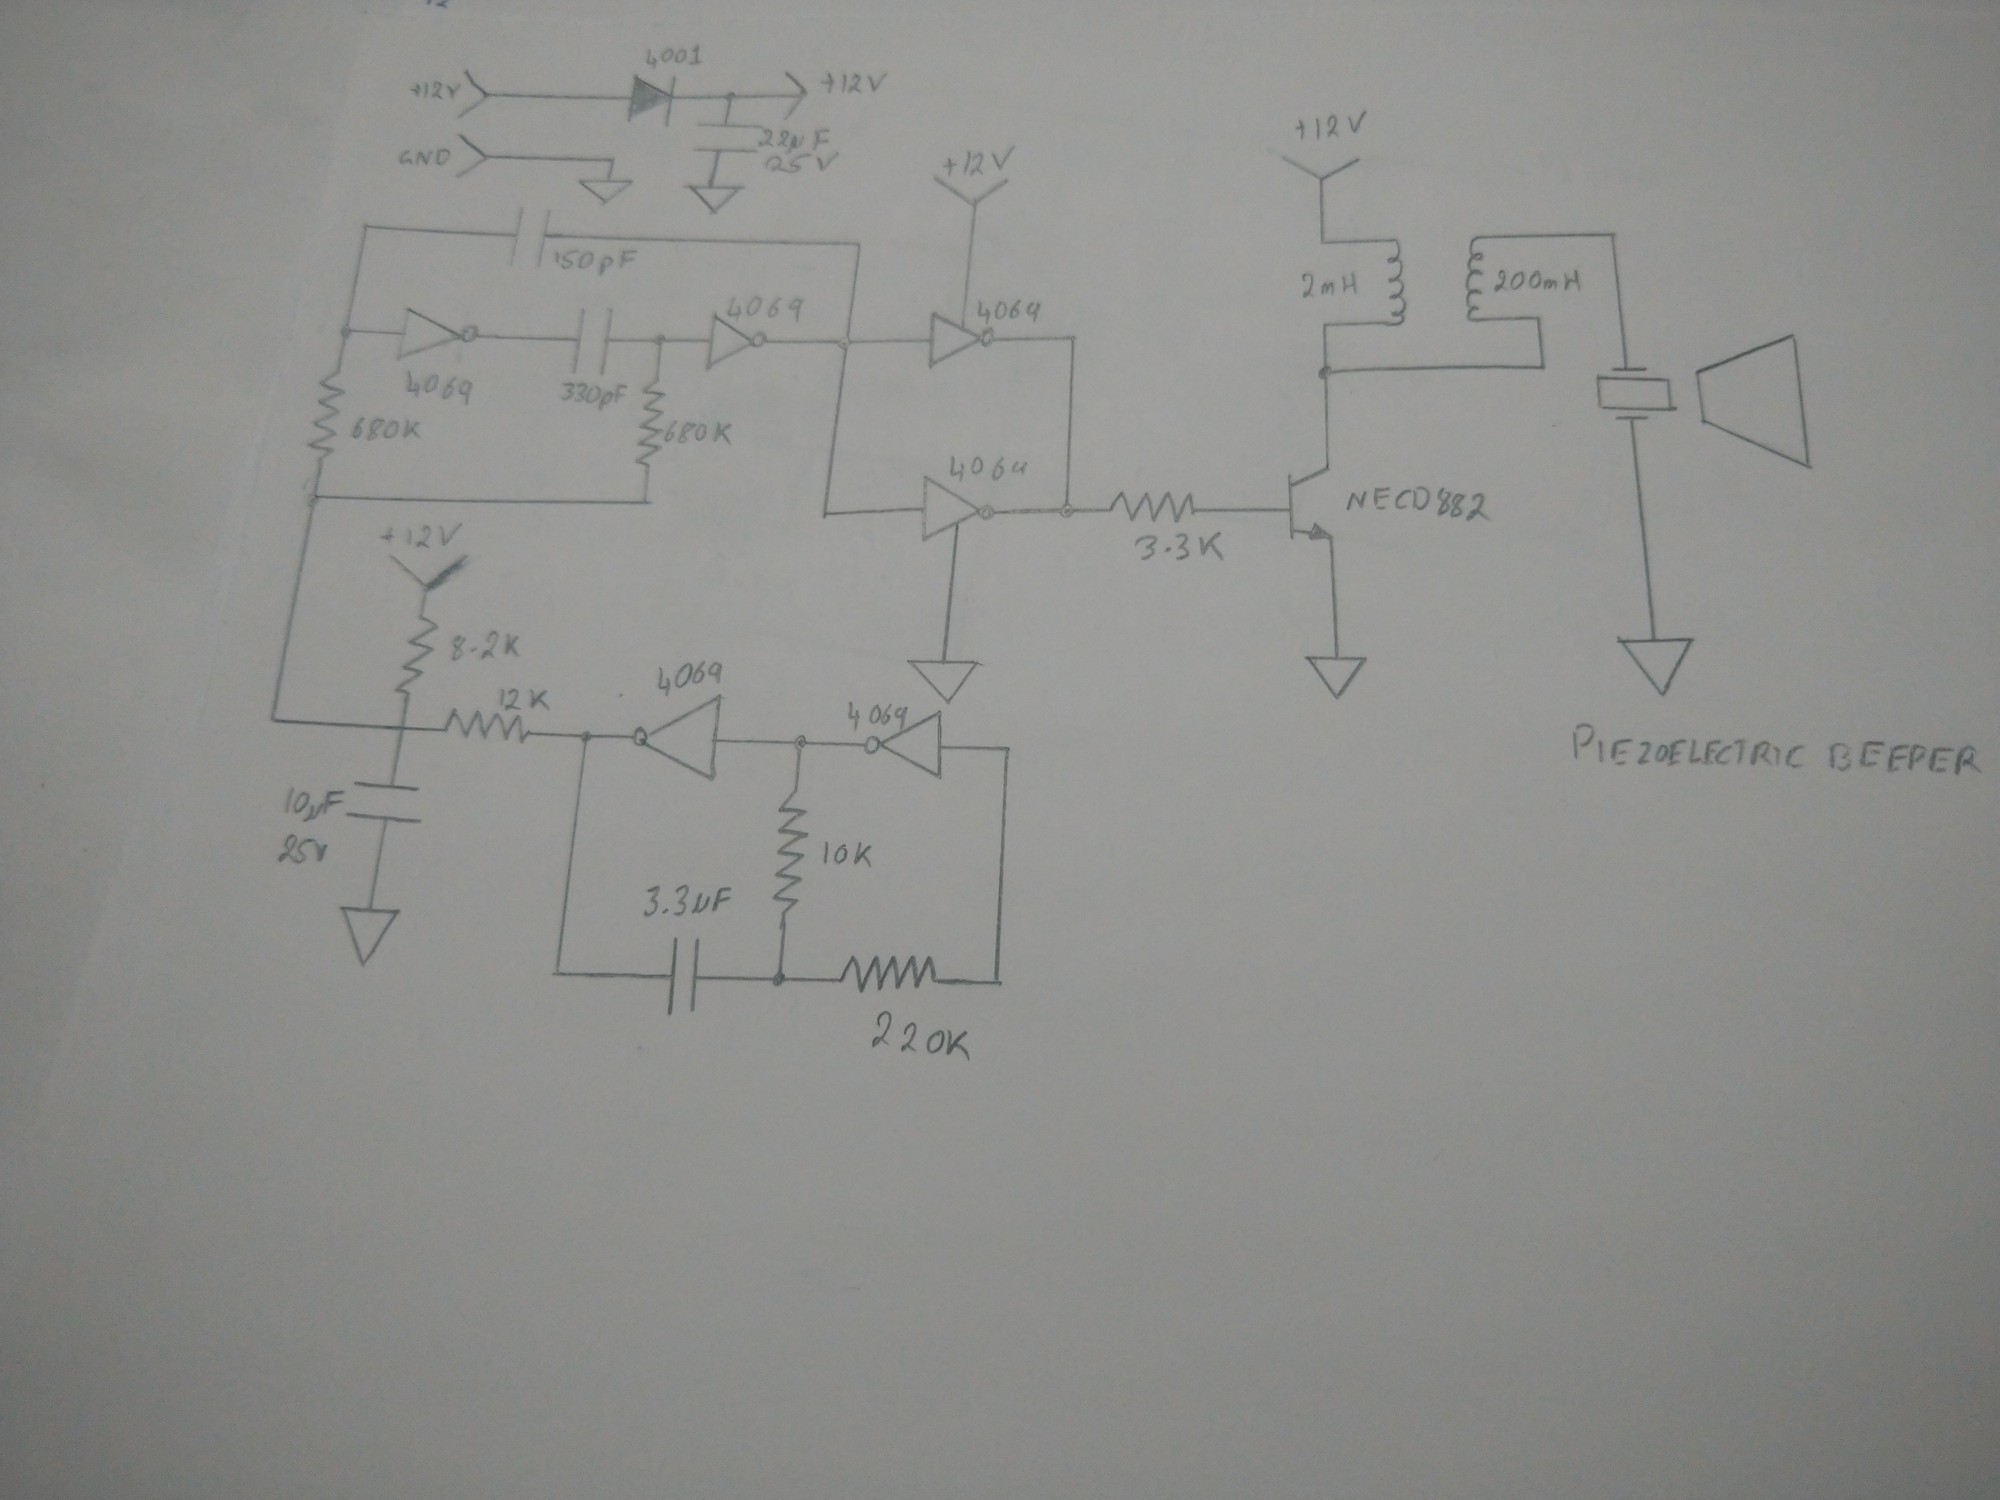capacitor.unpolarized: (343, 774, 427, 830), (567, 301, 619, 378), (661, 933, 706, 1018), (504, 202, 554, 271), (690, 115, 761, 161)
crossover: (394, 718, 420, 737)
diode: (622, 69, 683, 131)
gnd: (1611, 629, 1701, 703), (335, 901, 403, 971), (1301, 648, 1375, 704), (902, 652, 983, 704), (683, 183, 748, 217), (573, 175, 635, 208)
inductor: (1380, 230, 1411, 331), (1461, 232, 1491, 328)
junction: (831, 329, 861, 356), (764, 967, 794, 994), (331, 320, 359, 345), (787, 730, 813, 755), (717, 87, 746, 107), (1055, 496, 1079, 522), (302, 487, 326, 512), (575, 725, 600, 748), (1313, 362, 1339, 384), (649, 329, 672, 351), (995, 741, 1020, 759), (542, 964, 565, 983), (986, 972, 1009, 991), (816, 506, 836, 526), (847, 235, 869, 254), (1065, 331, 1085, 348), (635, 495, 657, 511), (1532, 358, 1553, 373), (1603, 228, 1624, 244), (359, 217, 376, 235), (263, 711, 279, 730), (1531, 310, 1546, 328), (1317, 317, 1332, 332), (603, 151, 619, 167), (1318, 233, 1332, 251)
not: (627, 692, 732, 785), (915, 473, 1003, 547), (861, 709, 948, 782), (392, 304, 483, 366), (699, 309, 773, 373), (924, 309, 995, 373)
resistor: (830, 952, 954, 996), (772, 786, 813, 917), (302, 366, 346, 466), (391, 611, 441, 700), (435, 706, 540, 745), (1099, 488, 1206, 526), (631, 370, 665, 473)
speaker: (1594, 331, 1816, 474)
terminal: (384, 548, 469, 589), (1276, 153, 1364, 184), (932, 173, 1011, 206), (450, 132, 491, 183), (458, 65, 491, 121), (778, 68, 813, 121)
text: (1561, 715, 1984, 782), (1343, 479, 1494, 531), (869, 1008, 972, 1064), (1129, 529, 1231, 569), (641, 881, 732, 922), (1285, 106, 1375, 145), (398, 367, 477, 411), (1491, 263, 1587, 298), (945, 451, 1031, 487), (447, 627, 524, 666), (939, 143, 1020, 178), (650, 659, 724, 696), (346, 411, 424, 447), (372, 522, 465, 551), (279, 783, 343, 826), (554, 244, 639, 276), (726, 291, 806, 325), (846, 696, 913, 734), (554, 380, 631, 413), (274, 829, 332, 870), (663, 418, 735, 449), (764, 151, 844, 180), (972, 298, 1046, 326), (759, 126, 833, 154), (391, 140, 455, 172), (817, 69, 883, 99), (1296, 269, 1361, 299), (638, 43, 704, 71), (820, 838, 874, 871), (493, 685, 553, 714), (406, 79, 465, 102)
transistor: (1279, 462, 1342, 548)
